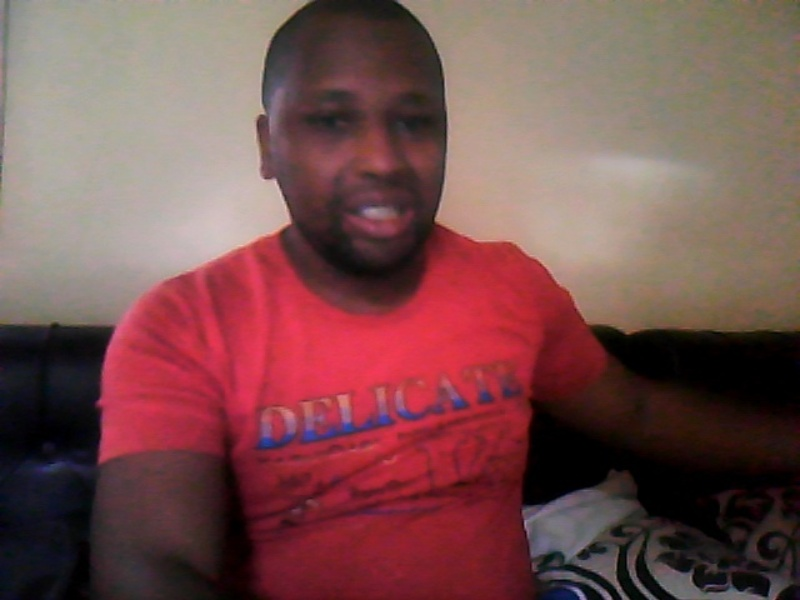TsisyArotava: (253, 9, 462, 278)
